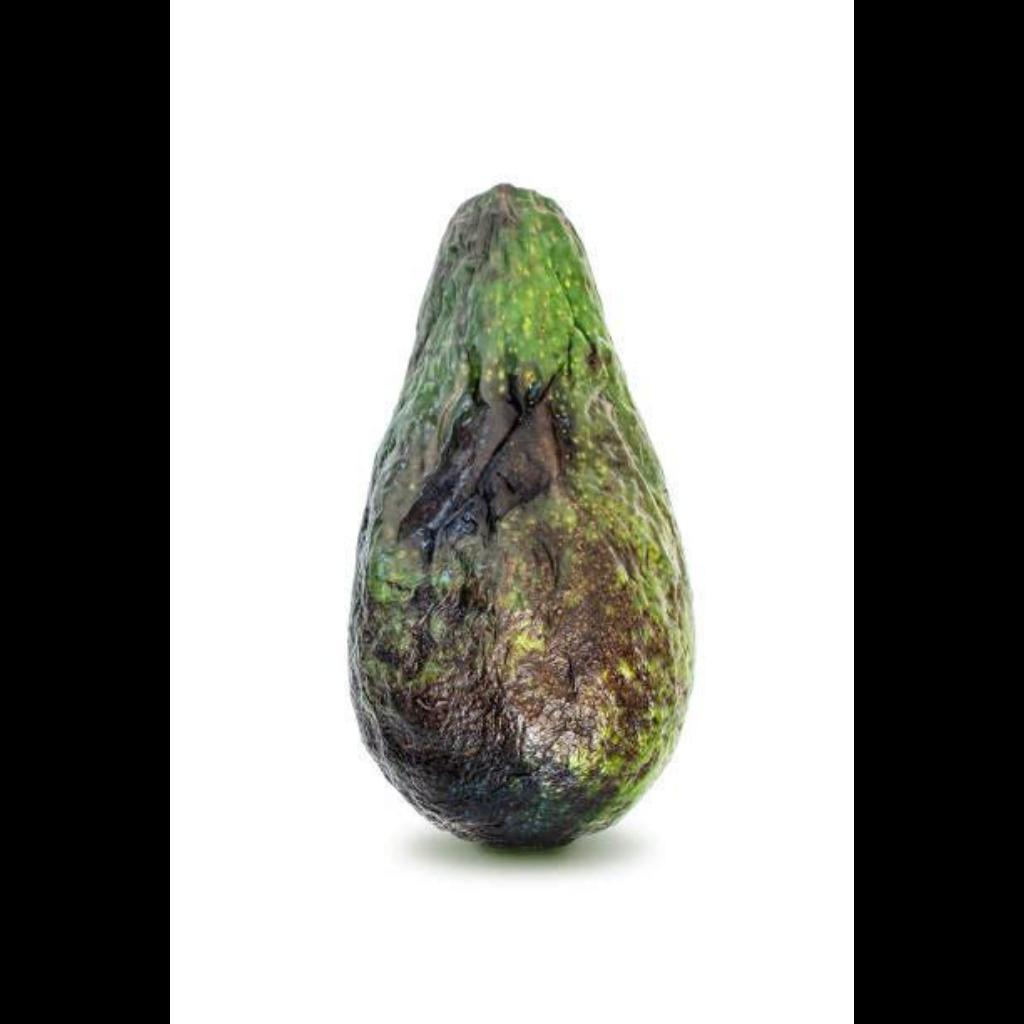antracnosis_fruto: (344, 183, 708, 847)
